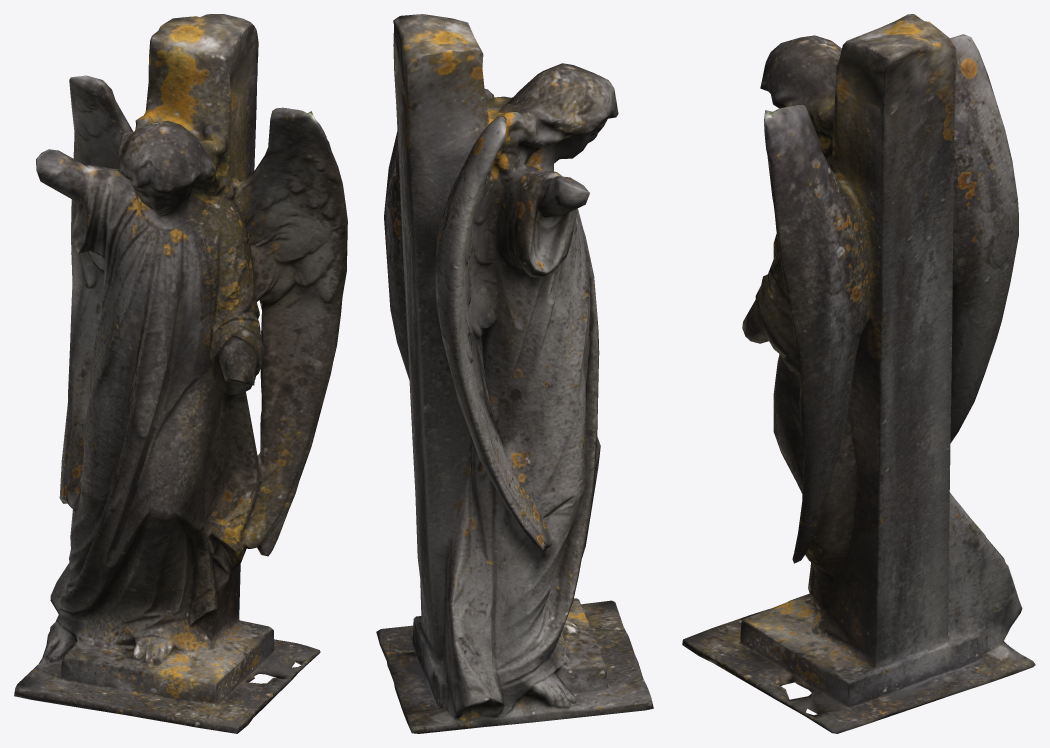
3 renders of one model, left to right at view 1: azimuth 30°, elevation 25°; view 2: azimuth 150°, elevation 25°; view 3: azimuth 270°, elevation 25°, orthographic. The views are drawn at different scales.
Parts seen in each view (by area): view 1: Object_2; view 2: Object_2; view 3: Object_2.
Boxes of the visible parts, x1=… form: Object_2: x1=14, y1=14, x2=347, y2=733; Object_2: x1=376, y1=14, x2=653, y2=733; Object_2: x1=682, y1=14, x2=1035, y2=733.
Size of the model in its own units: 7.98 by 16.22 by 7.91.
Materials: 1 (1 with a texture image).
